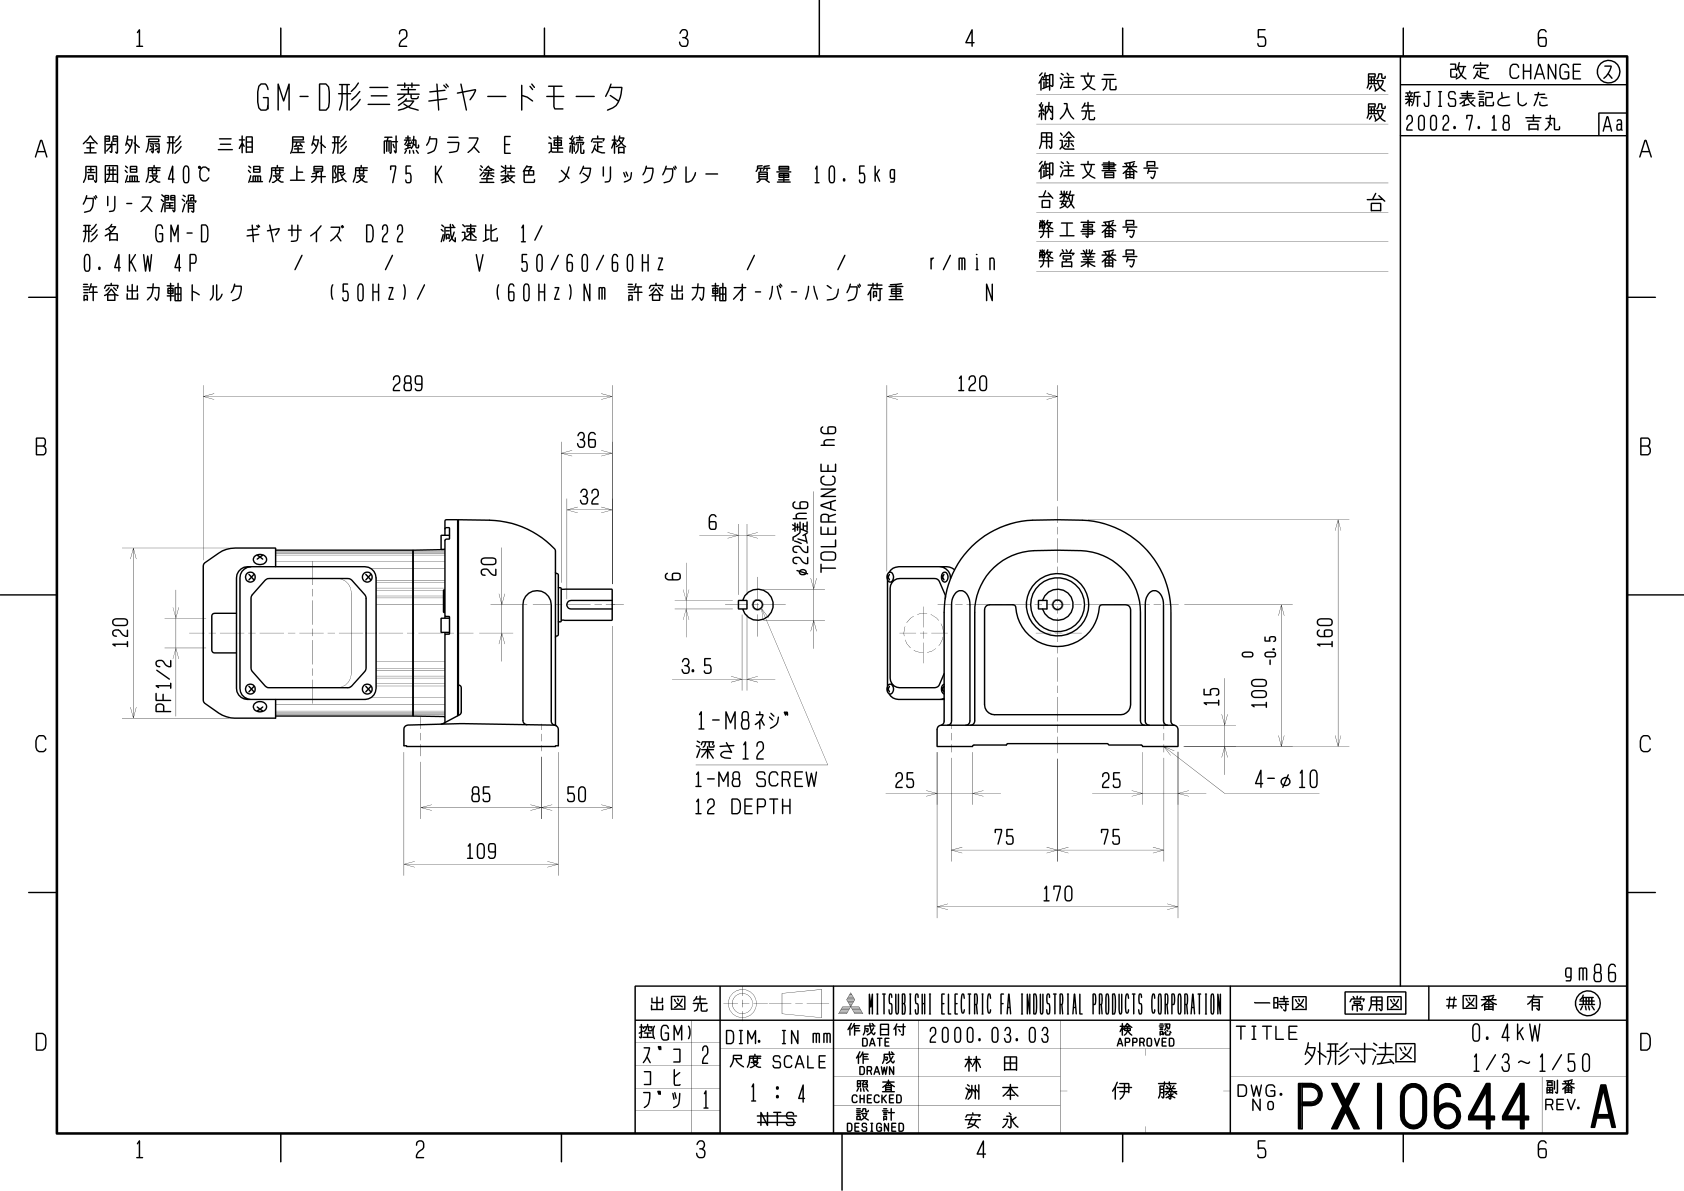GM_D_屋外＿三相_脚: (8, 9, 1684, 1191)
